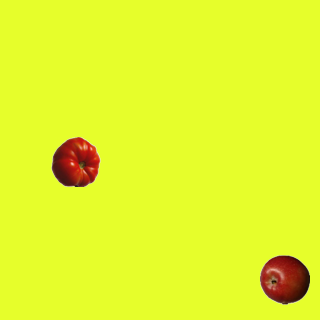Apple Braeburn: (259, 254, 309, 304)
Tomato 3: (50, 136, 100, 186)
